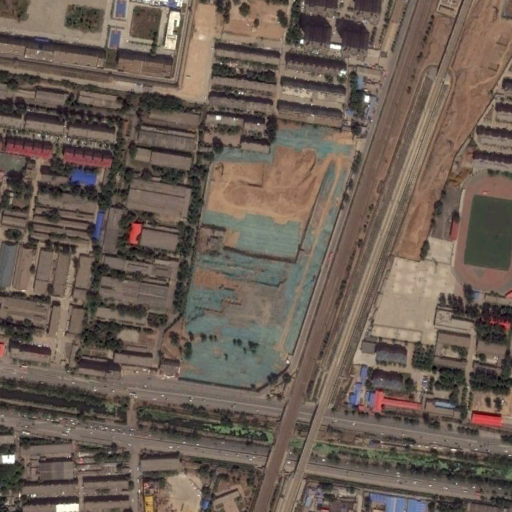cw: (174, 122, 353, 380)
